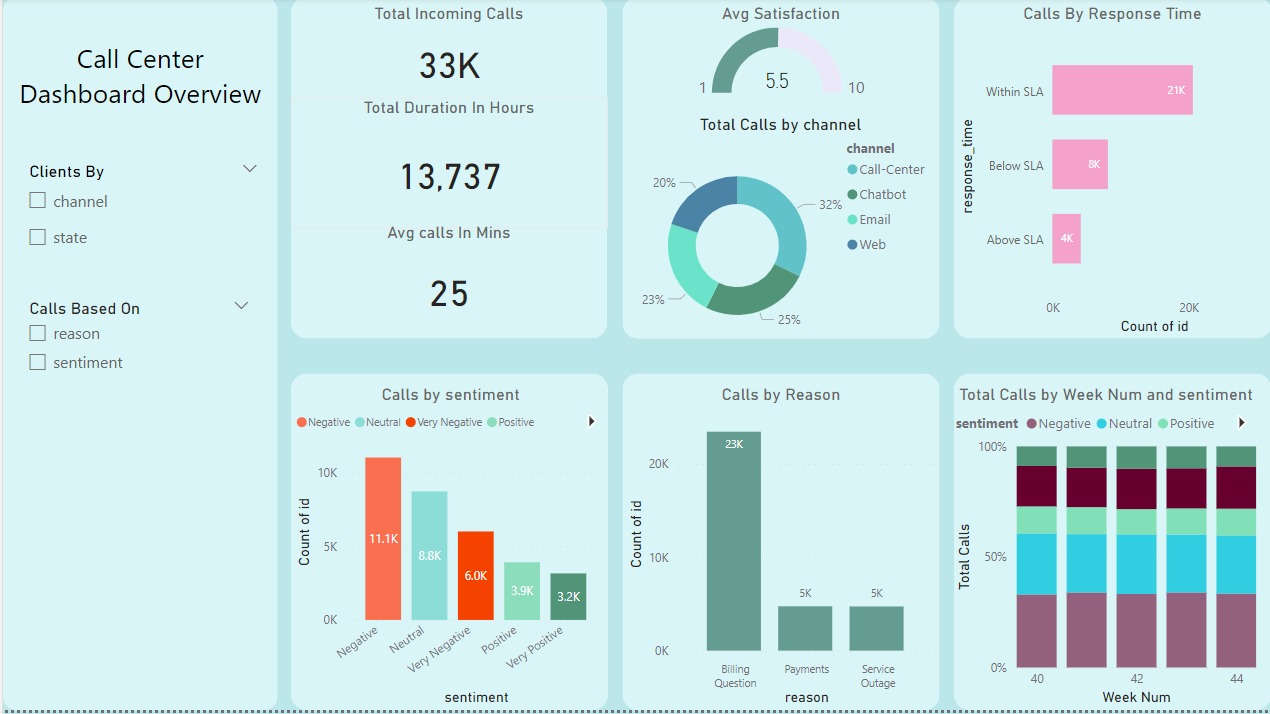

The page's visual inventory and layout, read from the dashboard file:
{"tool":"powerbi","page":{"name":"Page 1","canvas":[1280,720],"ordinal":0},"visuals":[{"type":"shape","box":[0,0,277.1,720],"z":0},{"type":"shape","box":[290.9,0,319,344.7],"z":1000},{"type":"shape","box":[290.9,380.1,320,339.8],"z":2000},{"type":"shape","box":[624.8,0,320,345],"z":3000},{"type":"shape","box":[625.3,380,320,340],"z":4000},{"type":"shape","box":[959.6,0,321,344.7],"z":5000},{"type":"shape","box":[959.7,380.1,320.3,339.8],"z":6000},{"type":"card","title":"Total Incoming Calls","fields":{"Values":["Call center Powe Bi.Total Calls"]},"box":[290.9,6.1,319,100.2],"z":7000},{"type":"card","title":"Total Duration In Hours","fields":{"Values":["Call center Powe Bi.Total Calla Duration"]},"box":[290.9,100.8,319,132],"z":8000},{"type":"card","title":"Avg calls In Mins","fields":{"Values":["Call center Powe Bi.Avg Call Durations"]},"box":[290.9,227.4,319,117.4],"z":9000},{"type":"gauge","title":"Avg Satisfaction","fields":{"Y":["Call center Powe Bi.Avg Satisfaction"],"MinValue":["Min(Call center Powe Bi.csat_score)"],"MaxValue":["Max(Call center Powe Bi.csat_score)1"]},"box":[624.7,6.1,320.3,100.2],"z":10000},{"type":"barChart","title":"Calls By Response Time","fields":{"Category":["Call center Powe Bi.response_time"],"Y":["CountNonNull(Call center Powe Bi.id)"]},"box":[959.6,6.1,320.3,338.6],"z":11000},{"type":"columnChart","title":"Calls by sentiment","fields":{"Y":["CountNonNull(Call center Powe Bi.id)"],"Category":["Call center Powe Bi.sentiment"],"Series":["Call center Powe Bi.sentiment"]},"box":[290.9,391.2,322.7,328.8],"z":12000},{"type":"columnChart","title":"Calls by Reason","fields":{"Category":["Call center Powe Bi.reason"],"Y":["CountNonNull(Call center Powe Bi.id)"]},"box":[624.7,391.2,320.3,328.8],"z":13000},{"type":"slicer","fields":{"Values":["Clients By .Clients By "]},"box":[13.4,160.1,255.5,117.4],"z":14000},{"type":"donutChart","fields":{"Category":["Call center Powe Bi.channel","Call center Powe Bi.state"],"Y":["Call center Powe Bi.Total Calls"]},"box":[625.9,117.4,319,245.7],"z":15000},{"type":"hundredPercentStackedColumnChart","fields":{"Series":["Call center Powe Bi.sentiment"],"Category":["Call center Powe Bi.Week Num"],"Y":["Call center Powe Bi.Total Calls"]},"box":[957.1,391.2,312.9,328.8],"z":16000},{"type":"slicer","fields":{"Values":["Calls Based On.Calls Based On"]},"box":[13.4,298.3,246.9,101.5],"z":17000}]}

Visuals, with their boxes in screenshot pixels (x1, y1, x2, y2), scaled from the page's 1280x720 canvas onto the 1270x714 screenshot:
shape: <region>0, 0, 275, 713</region>
shape: <region>289, 0, 605, 342</region>
shape: <region>289, 377, 606, 713</region>
shape: <region>620, 0, 937, 342</region>
shape: <region>620, 377, 938, 713</region>
shape: <region>952, 0, 1269, 342</region>
shape: <region>952, 377, 1269, 713</region>
"Total Incoming Calls" card: <region>289, 6, 605, 105</region>
"Total Duration In Hours" card: <region>289, 100, 605, 231</region>
"Avg calls In Mins" card: <region>289, 226, 605, 342</region>
"Avg Satisfaction" gauge: <region>620, 6, 938, 105</region>
"Calls By Response Time" barChart: <region>952, 6, 1269, 342</region>
"Calls by sentiment" columnChart: <region>289, 388, 609, 713</region>
"Calls by Reason" columnChart: <region>620, 388, 938, 713</region>
slicer - Clients By .Clients By : <region>13, 159, 267, 275</region>
donutChart - Call center Powe Bi.channel x Call center Powe Bi.state: <region>621, 116, 938, 360</region>
hundredPercentStackedColumnChart - Call center Powe Bi.sentiment x Call center Powe Bi.Week Num: <region>950, 388, 1260, 713</region>
slicer - Calls Based On.Calls Based On: <region>13, 296, 258, 396</region>
